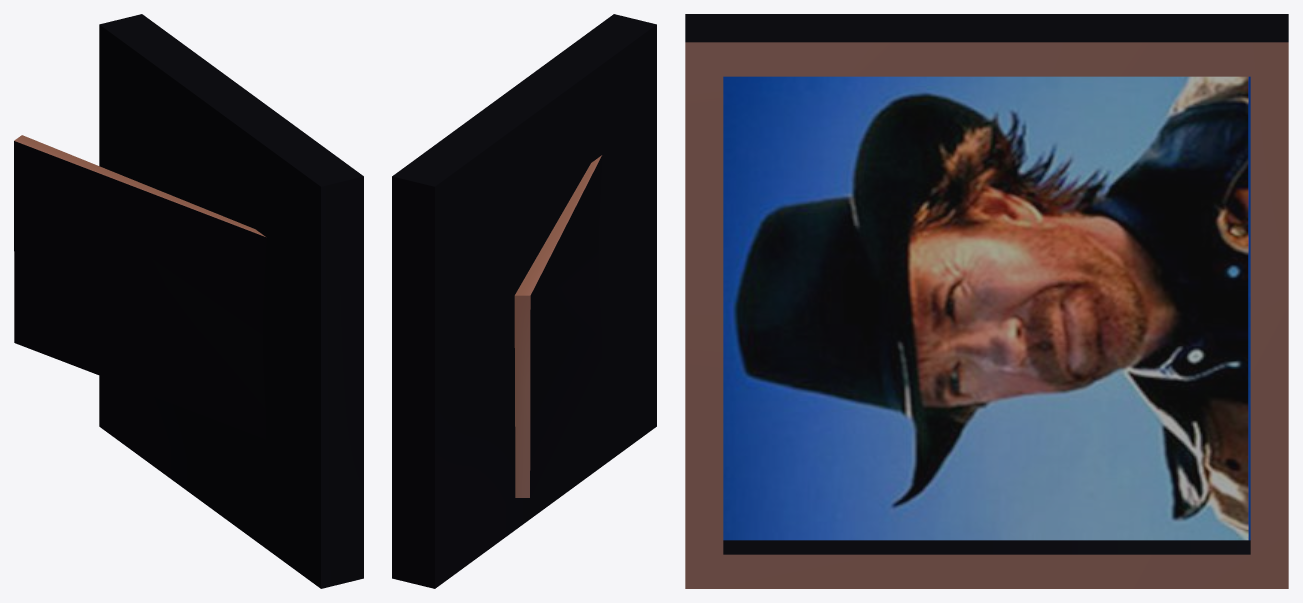
The model's file is chuck.fbx.
The picture shows the model from 3 angles, left to right: view 1: azimuth 30°, elevation 25°; view 2: azimuth 150°, elevation 25°; view 3: azimuth 270°, elevation 25°; orthographic projection. The views are drawn at different scales.
Visible parts, largest first — view 1: Cube; view 2: Cube; view 3: Cube.
Part boxes in pixels (box(x1,y1,x2,y2)): Cube: box(14, 14, 363, 588); Cube: box(392, 14, 656, 588); Cube: box(685, 14, 1288, 588).
Size of the model in its own units: 179 by 515 by 515.
1 material, 1 textured.
